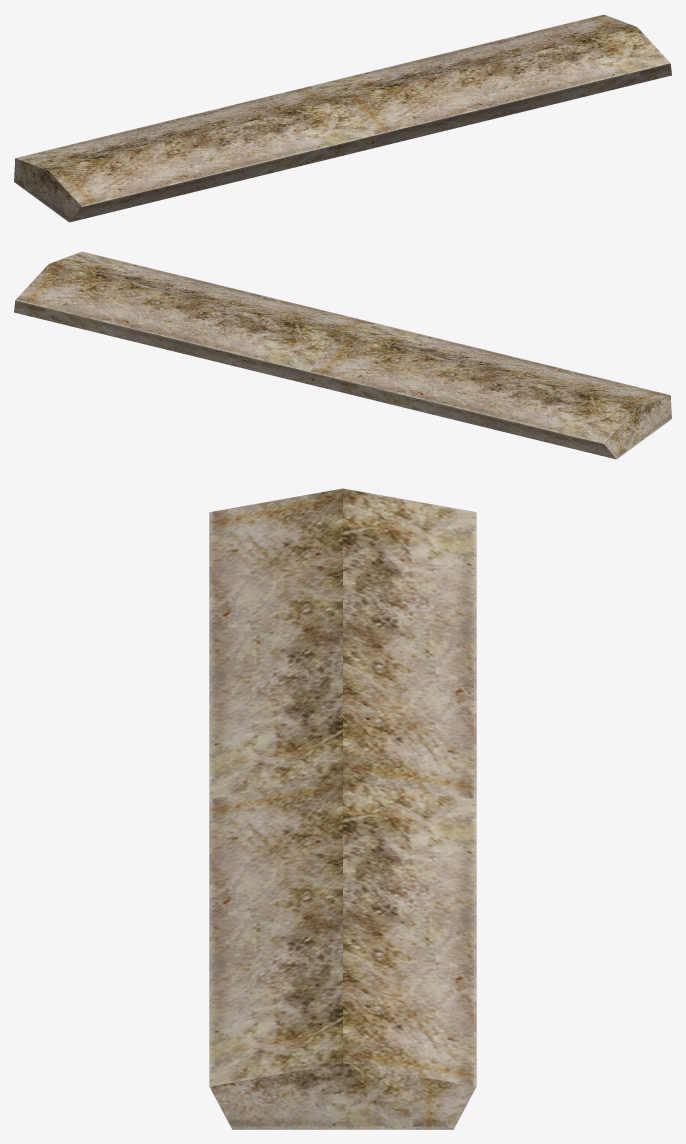
The model's file is M_Home_Garden_TL3.fbx.
3 renders of one model, top to bottom at view 1: azimuth 30°, elevation 25°; view 2: azimuth 150°, elevation 25°; view 3: azimuth 270°, elevation 25°, orthographic. The views are drawn at different scales.
Visible parts, largest first — view 1: M_Home_Garden_TL3; view 2: M_Home_Garden_TL3; view 3: M_Home_Garden_TL3.
Boxes of the visible parts, <box> form: M_Home_Garden_TL3: <box>14,14,671,222</box>; M_Home_Garden_TL3: <box>14,251,671,459</box>; M_Home_Garden_TL3: <box>209,488,476,1129</box>.
Bounding box in the file's own units: 139 × 6.58 × 26.71.
